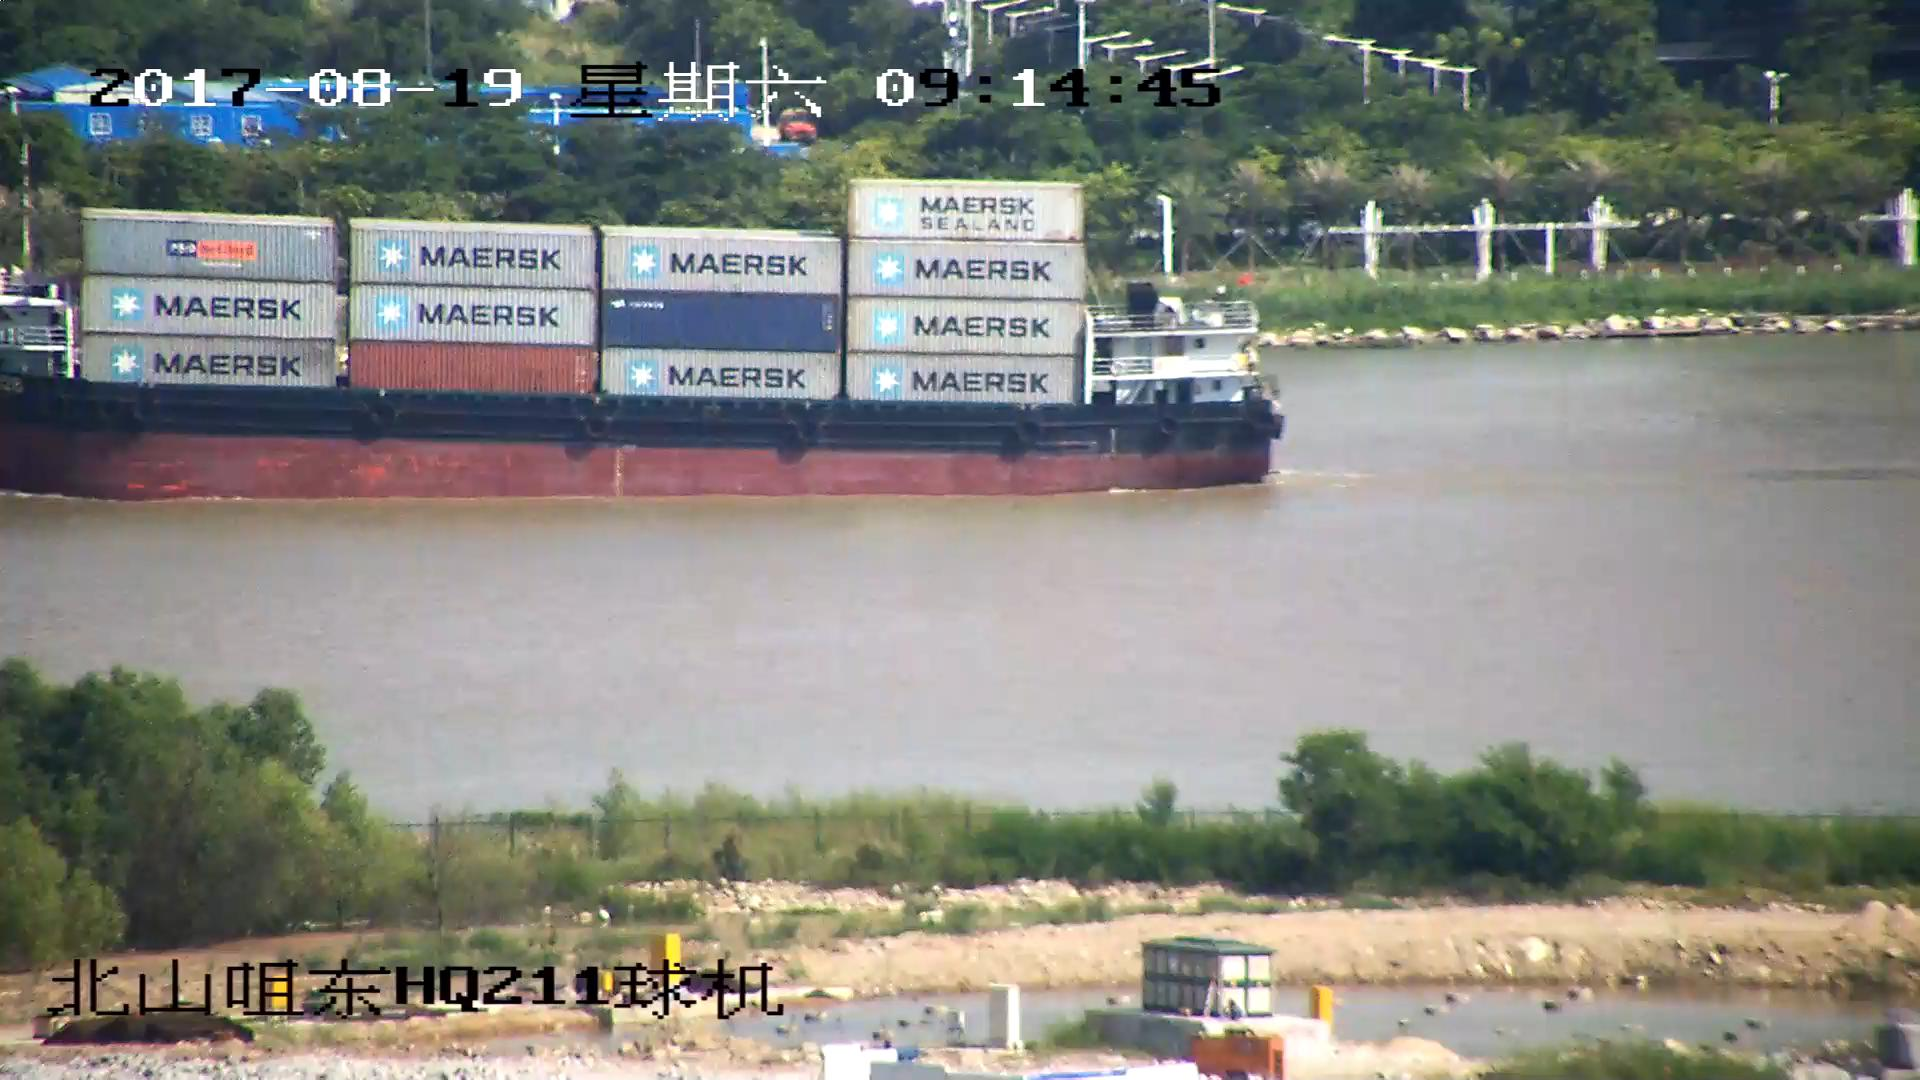container ship: (1, 171, 1280, 501)
